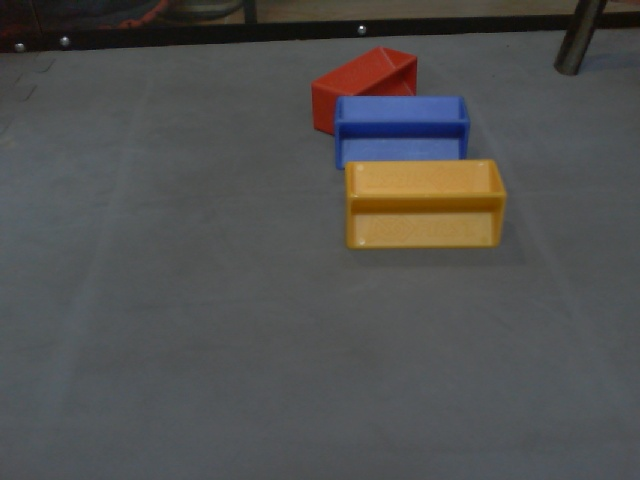BlueSample: (333, 90, 471, 175)
RedSample: (309, 45, 419, 137)
YellowSample: (343, 157, 509, 254)
